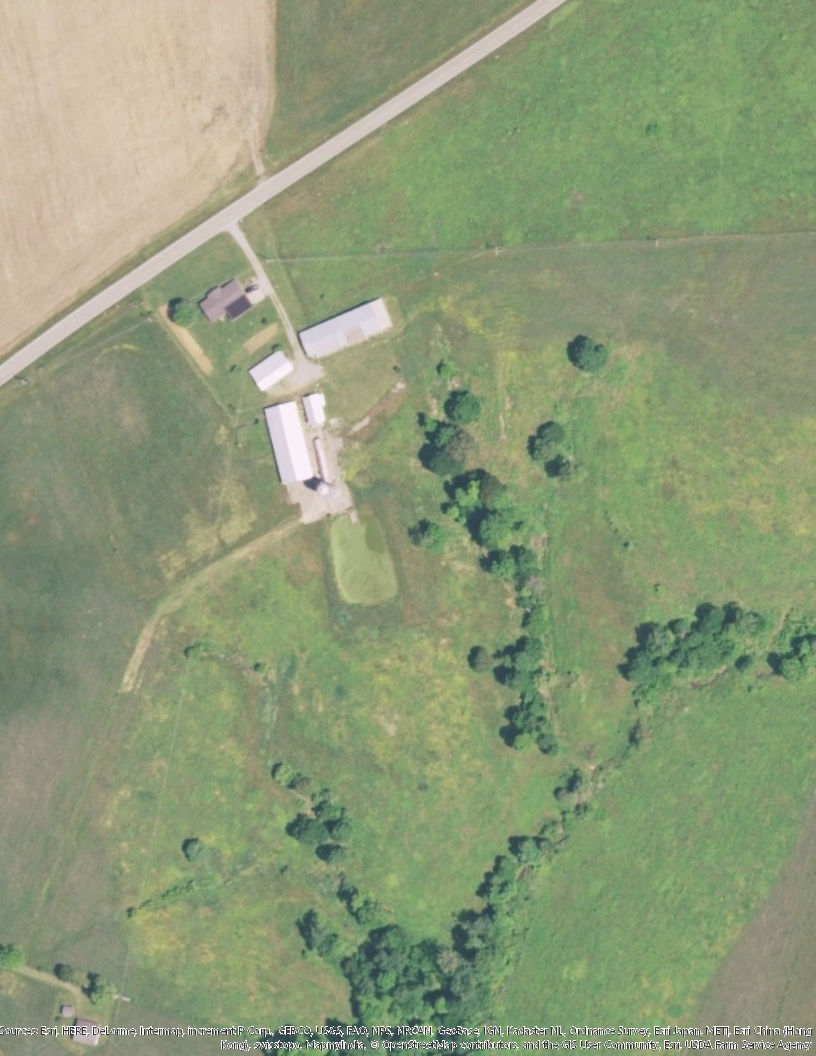cafo: (266, 388, 338, 487), (298, 300, 394, 361), (245, 349, 292, 390)
